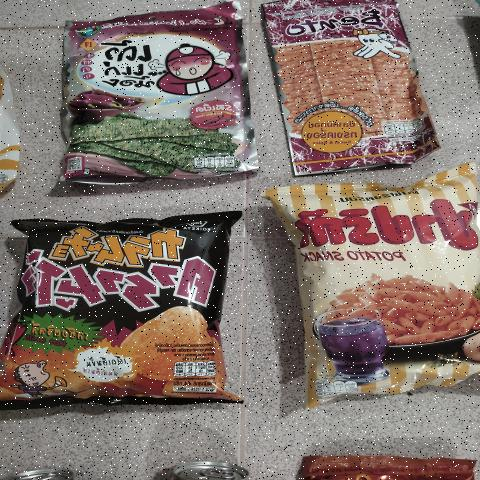bento_red: (286, 3, 401, 168)
karamujo: (5, 214, 227, 406)
paprika: (304, 172, 480, 406)
taokaenoi: (73, 11, 227, 176)
